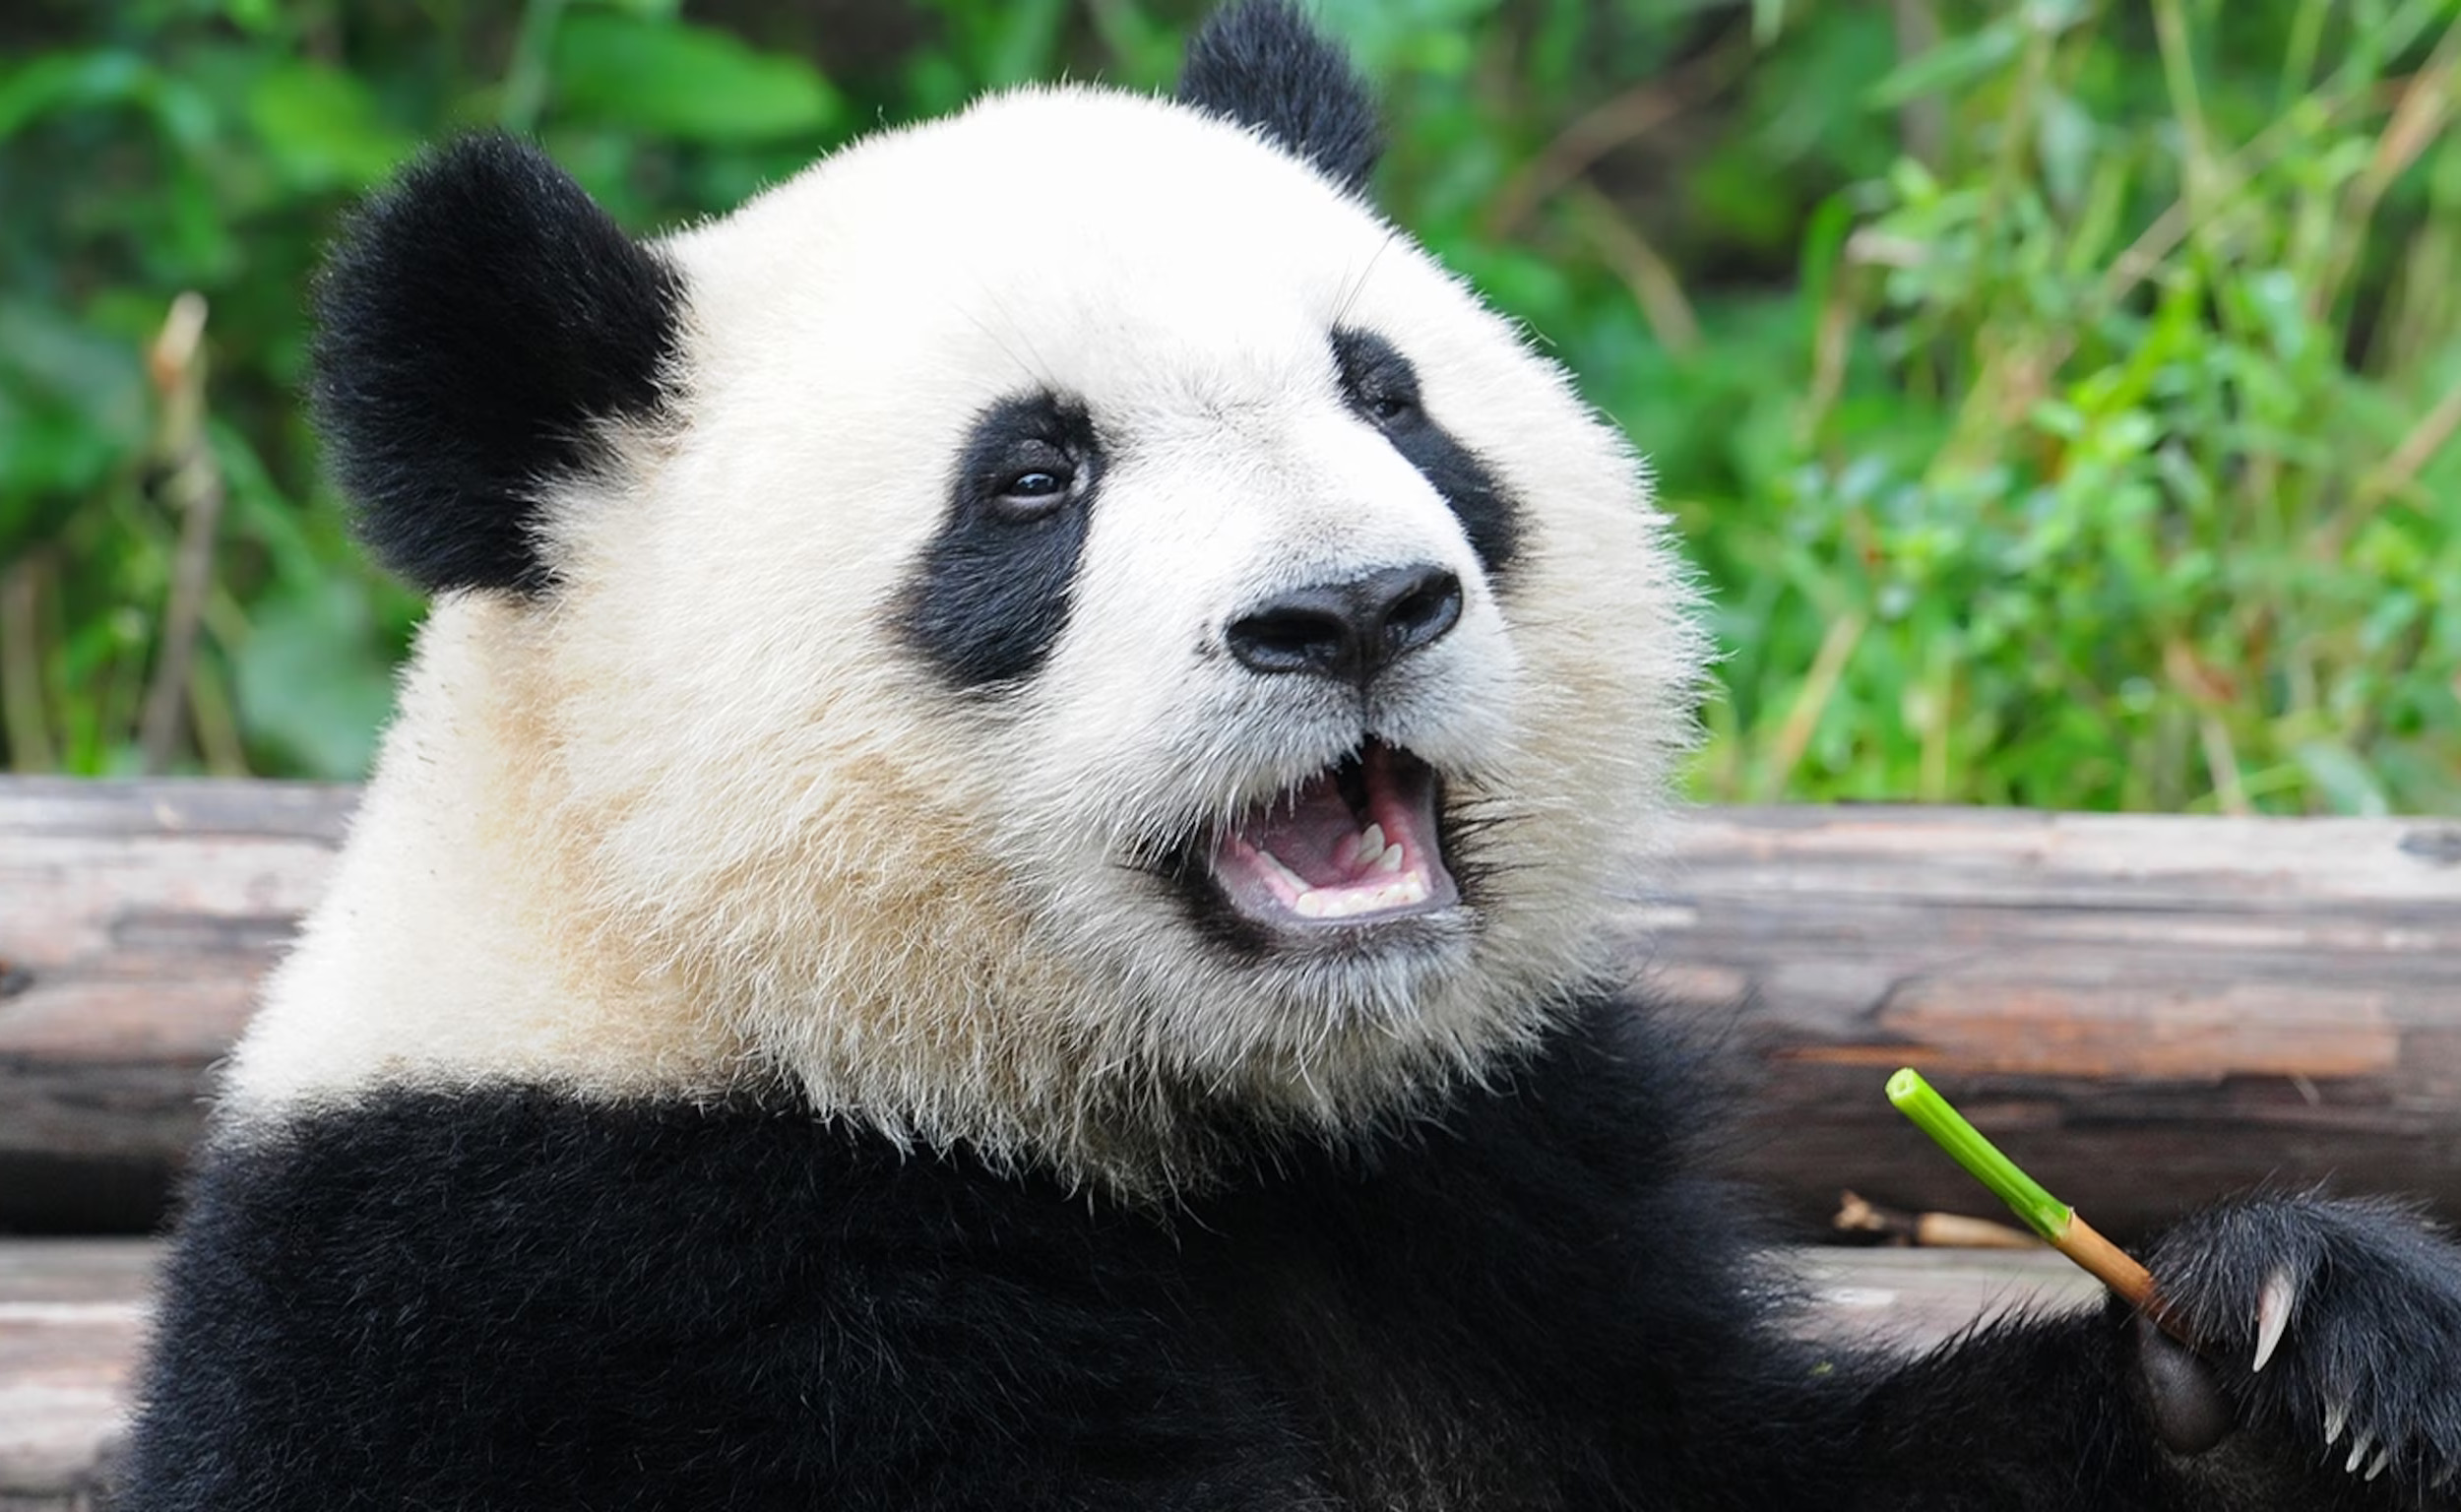Giant panda: (315, 12, 1719, 1171)
